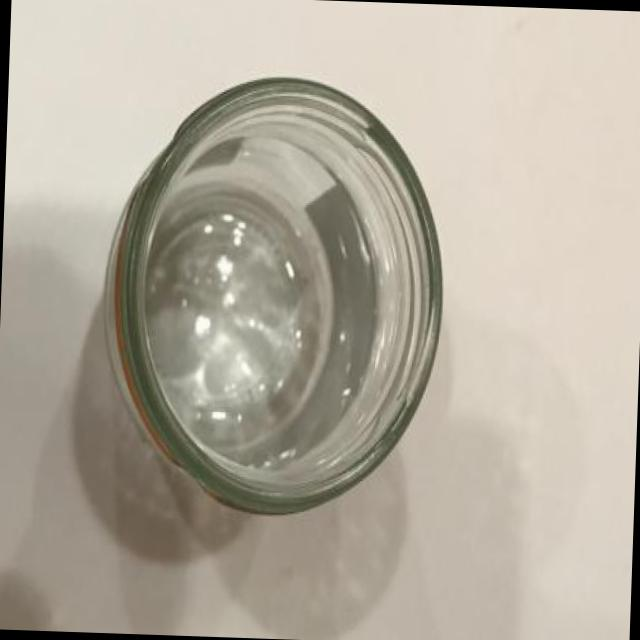chai_thuy_tinh: (102, 78, 445, 517)
